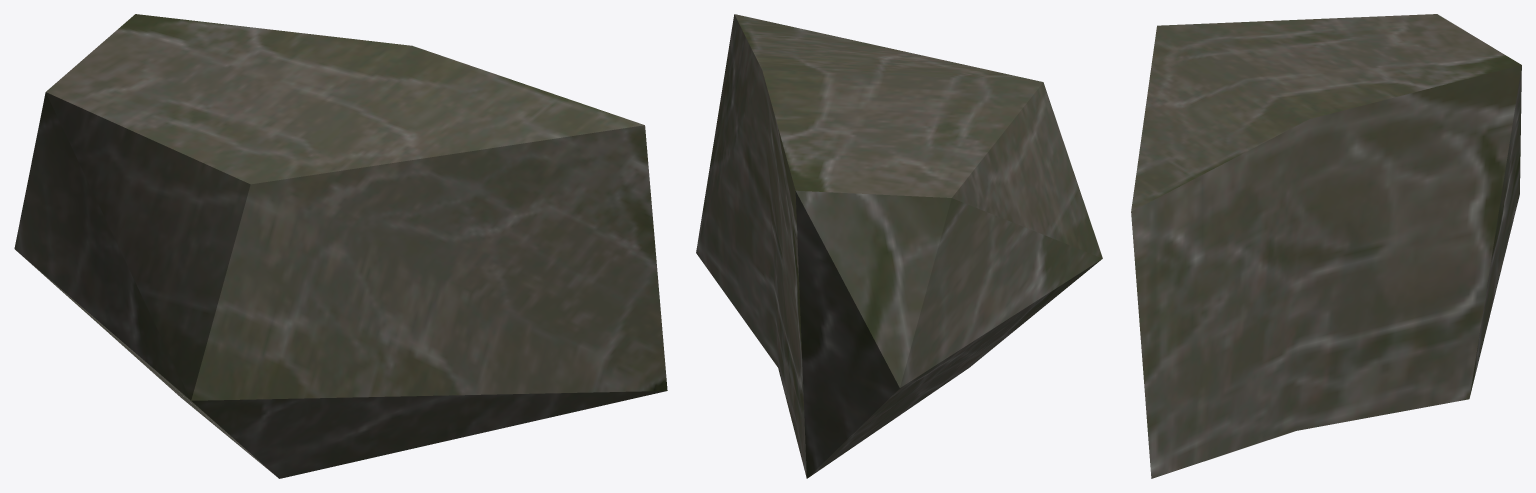
The model's file is TI_Brick_09.fbx.
3 views of the same model, side by side, from view 1: azimuth 30°, elevation 25°; view 2: azimuth 150°, elevation 25°; view 3: azimuth 270°, elevation 25° (orthographic). The views are drawn at different scales.
Visible parts, largest first — view 1: TI_Brick_09; view 2: TI_Brick_09; view 3: TI_Brick_09.
Boxes of the visible parts, x1,y1,x2,y2 form: TI_Brick_09: [14, 14, 667, 478]; TI_Brick_09: [696, 14, 1102, 478]; TI_Brick_09: [1131, 14, 1521, 478].
Size of the model in its own units: 0.7621 by 0.5822 by 0.6029.
